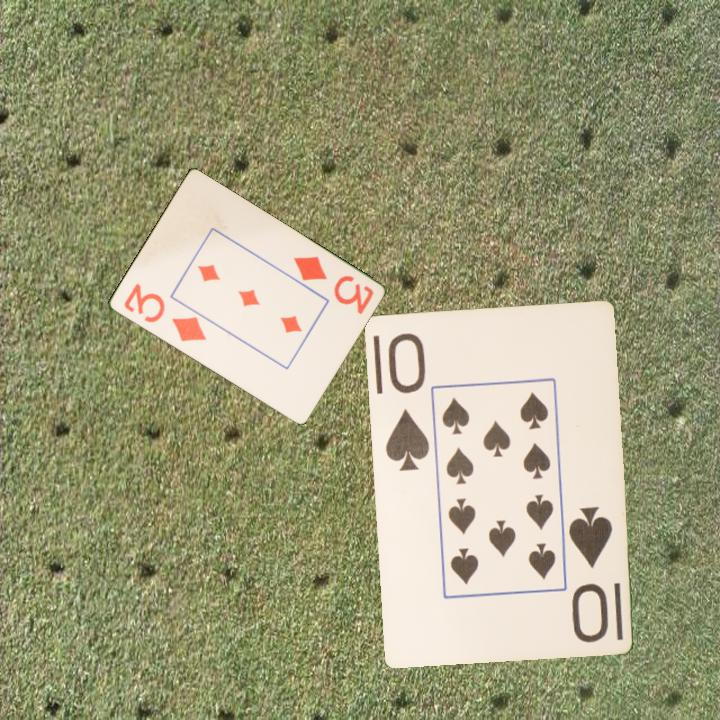10s: (381, 328, 432, 474), (564, 502, 615, 645)
3d: (120, 280, 209, 345), (289, 252, 376, 317)
